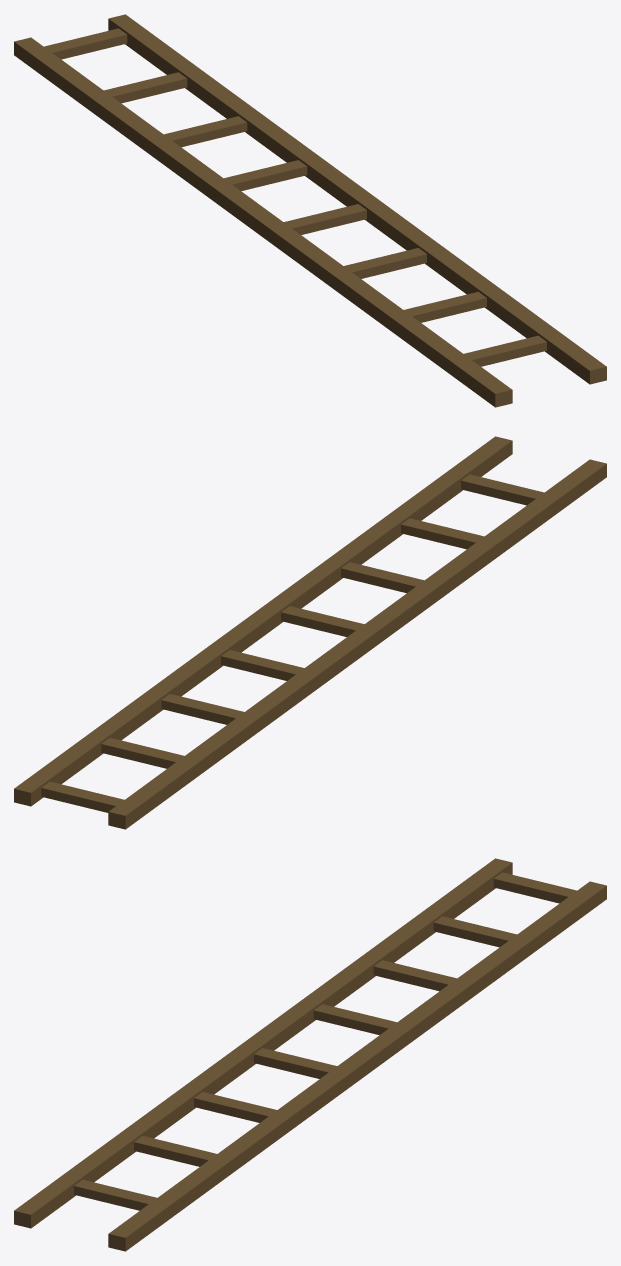
Rendered from model_polytope_water_ladder.fbx.
The picture shows the model from 3 angles, top to bottom: view 1: azimuth 30°, elevation 25°; view 2: azimuth 150°, elevation 25°; view 3: azimuth 330°, elevation 25°; orthographic projection.
Parts seen in each view (by area): view 1: model_polytope_water_ladder; view 2: model_polytope_water_ladder; view 3: model_polytope_water_ladder.
Part boxes in pixels (<box>): model_polytope_water_ladder: <box>14,14,606,407</box>; model_polytope_water_ladder: <box>14,436,606,829</box>; model_polytope_water_ladder: <box>14,858,606,1251</box>.
Size of the model in its own units: 98.7 by 11.55 by 738.
